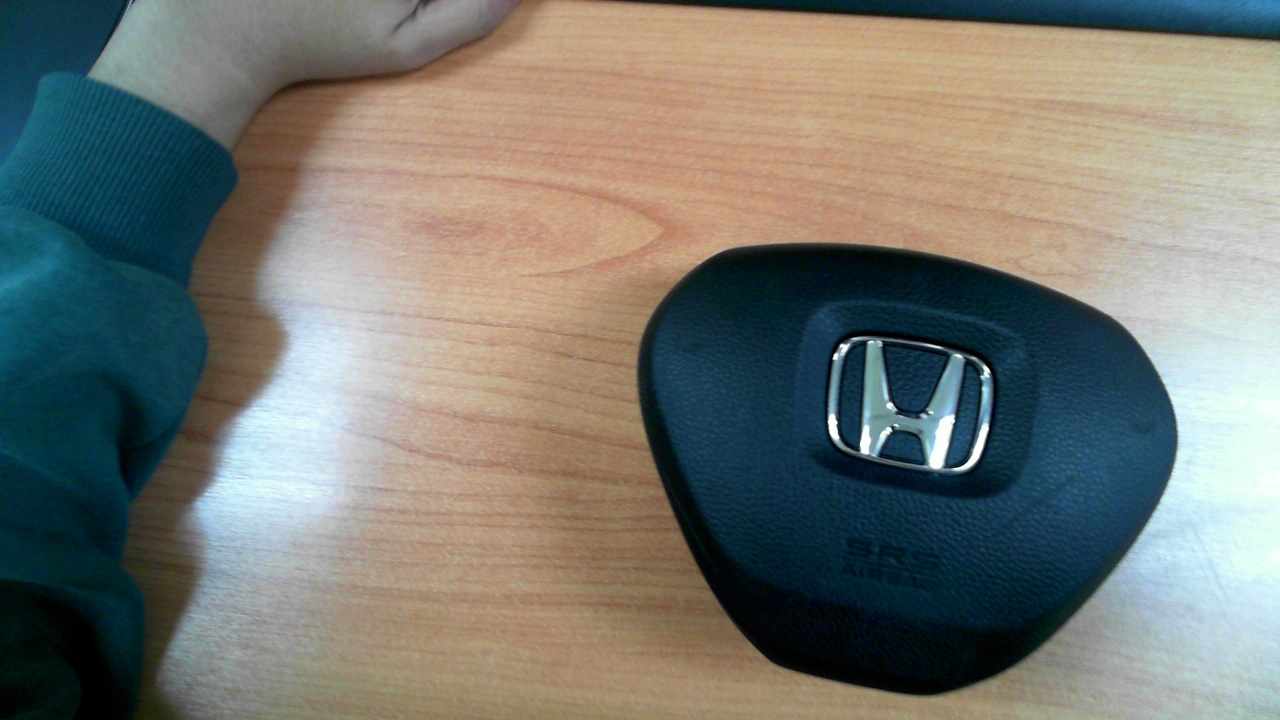Airbag: (636, 242, 1178, 697)
Honda: (827, 335, 994, 472)
